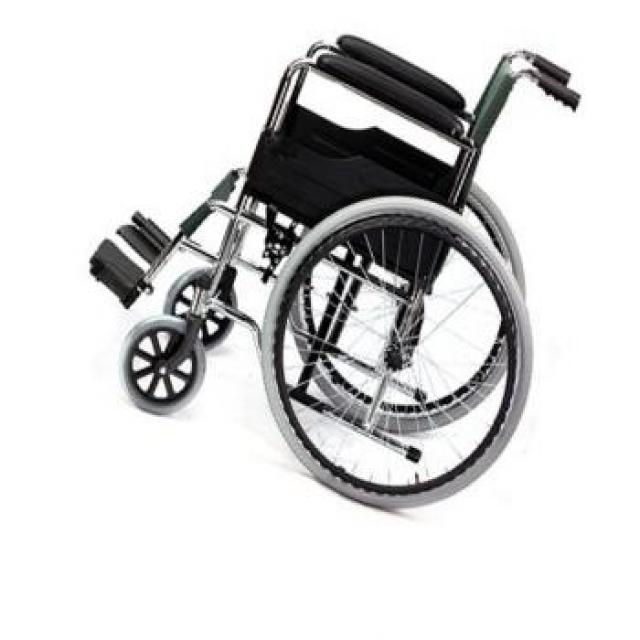wheelchair: (80, 2, 594, 524)
